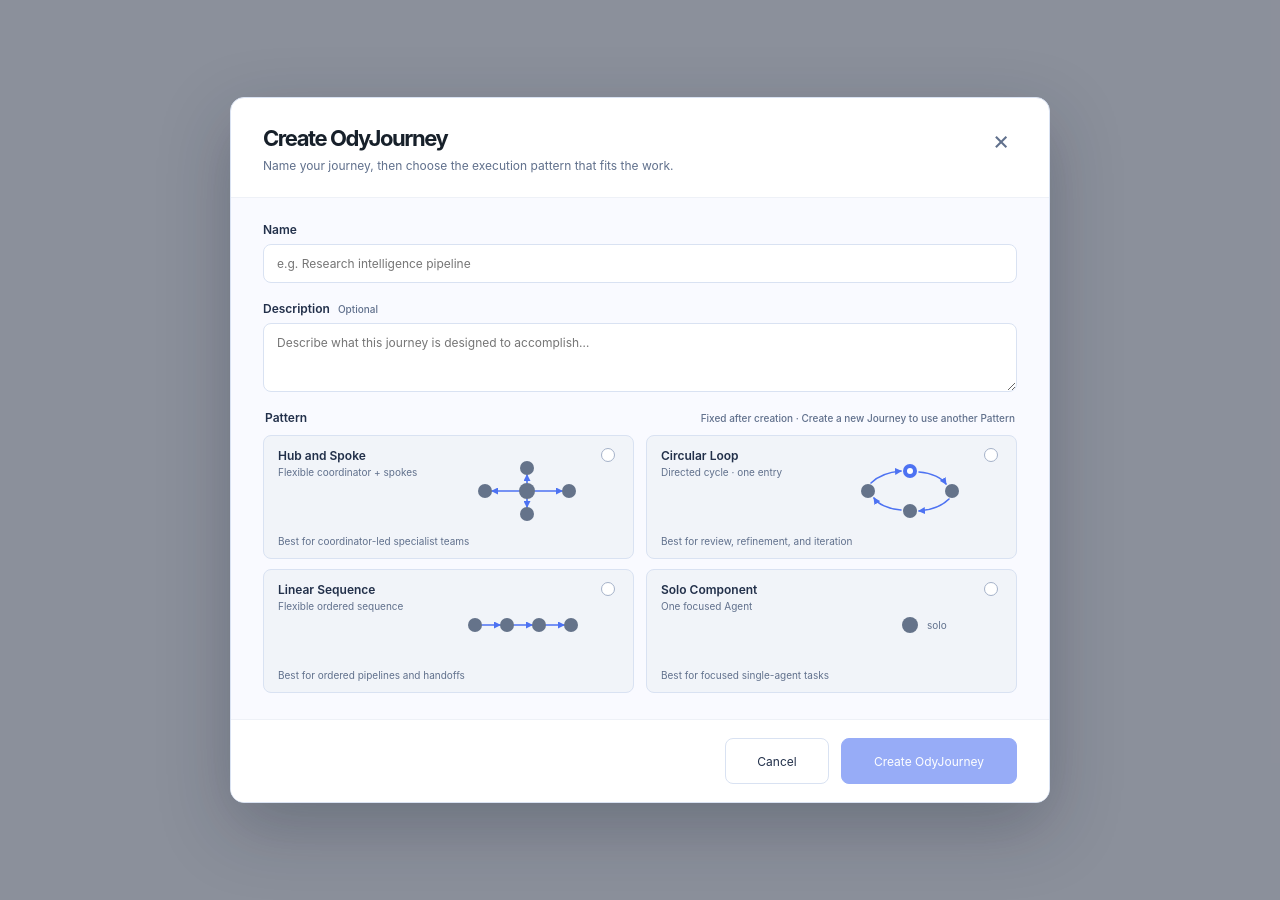
Test case: CreateJourneyDialog › starts without a selected Pattern and requires both name and Pattern
Check: the submit button is disabled, box top-left (841, 738), bottom-right (1017, 784)
Type "Review Loop" into the field labelled "Name" at (640, 264), box top-left (263, 244), bottom-right (1017, 283)
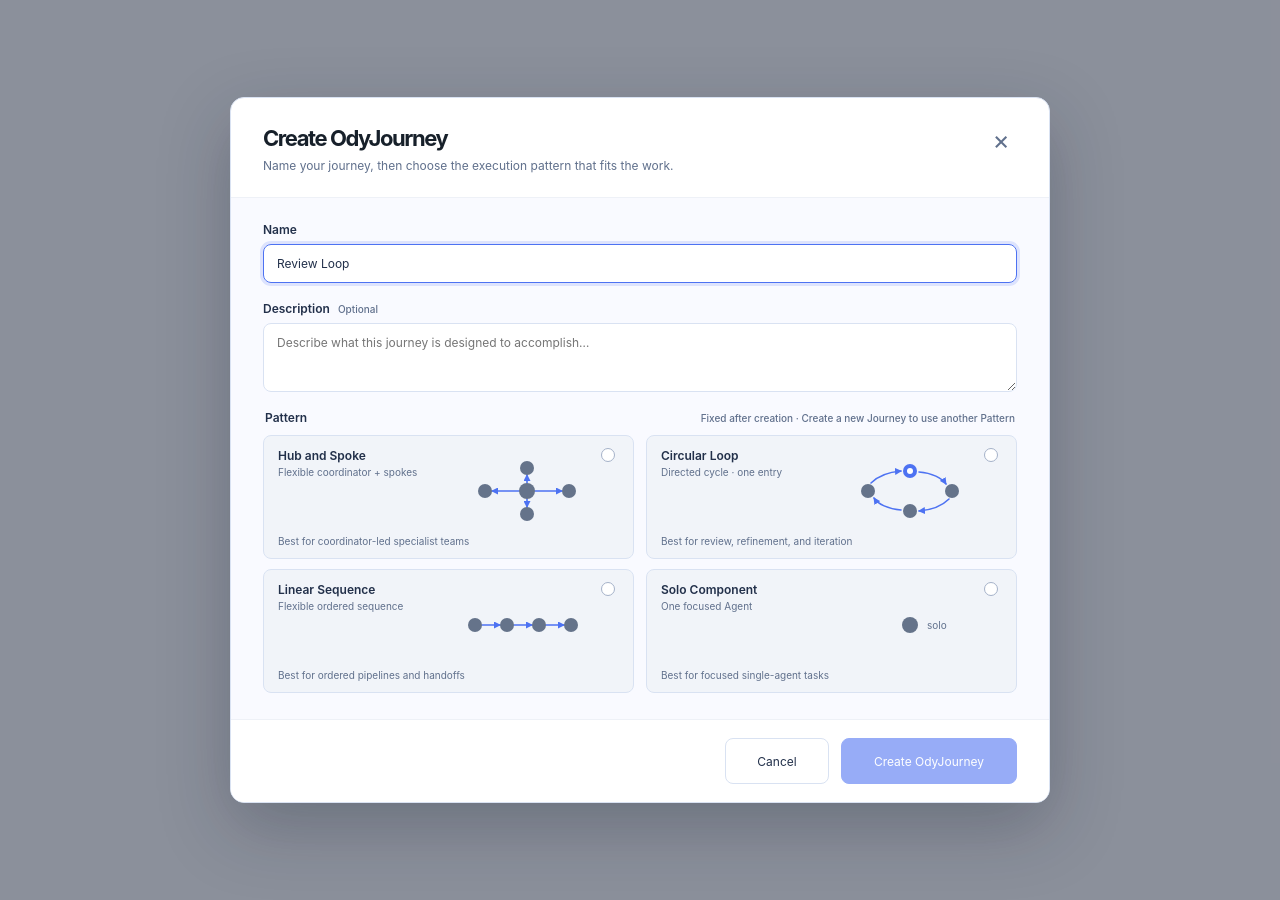
Check: the submit button is disabled, box top-left (841, 738), bottom-right (1017, 784)
Click the radio button that starts with "Circular Loop" at (700, 456), box top-left (646, 435), bottom-right (1017, 559)
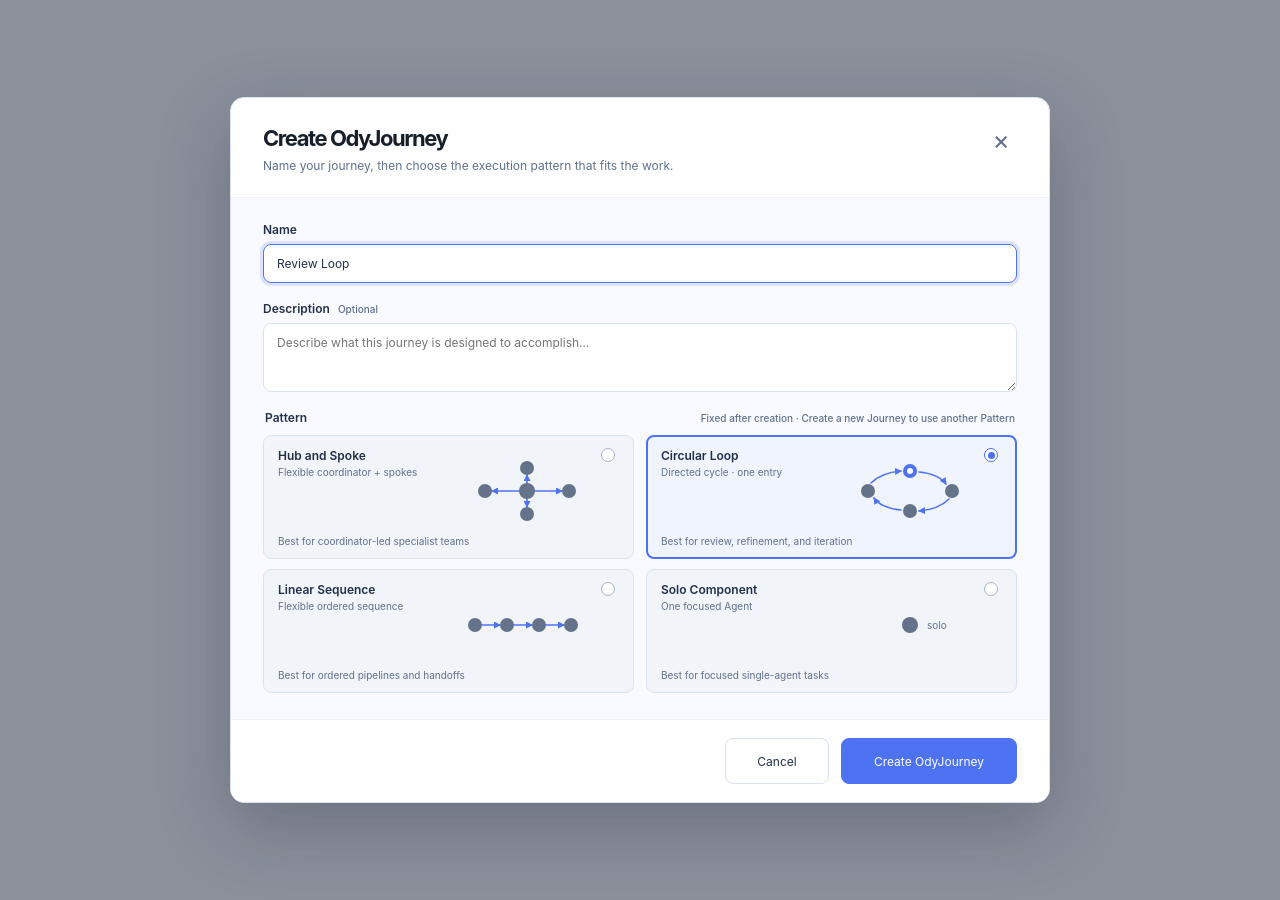
Check: the submit button is enabled, box top-left (841, 738), bottom-right (1017, 784)
